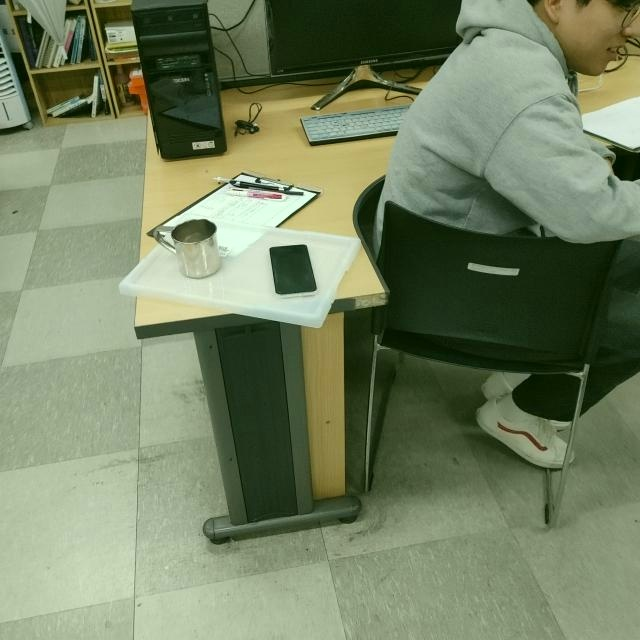cup: (151, 217, 221, 281)
phone: (269, 240, 319, 300)
